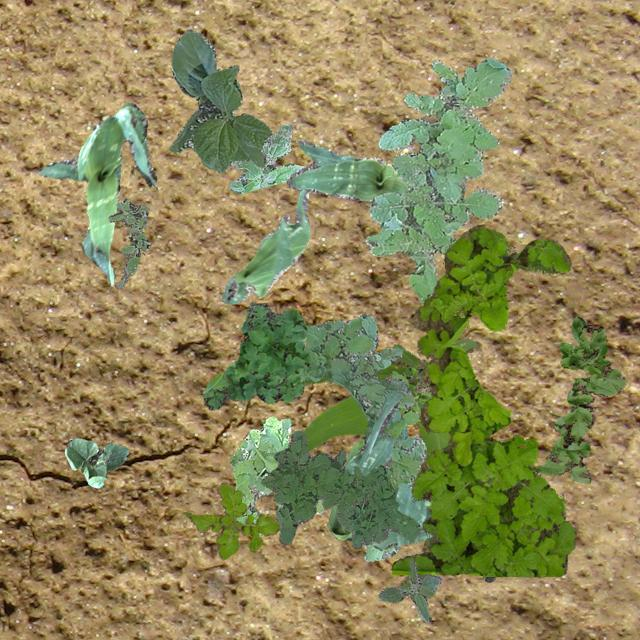crop: (300, 338, 480, 588), (37, 102, 156, 284), (328, 390, 434, 550), (168, 28, 272, 172), (222, 188, 308, 304), (286, 138, 408, 202), (64, 438, 128, 487), (482, 575, 494, 581)
weed: (390, 224, 574, 576), (364, 56, 510, 302), (304, 312, 429, 560), (260, 429, 420, 548), (534, 316, 626, 482), (202, 301, 310, 408), (228, 414, 322, 524), (182, 482, 278, 560), (228, 122, 304, 192), (378, 558, 440, 622), (108, 198, 150, 288), (382, 368, 430, 423)
